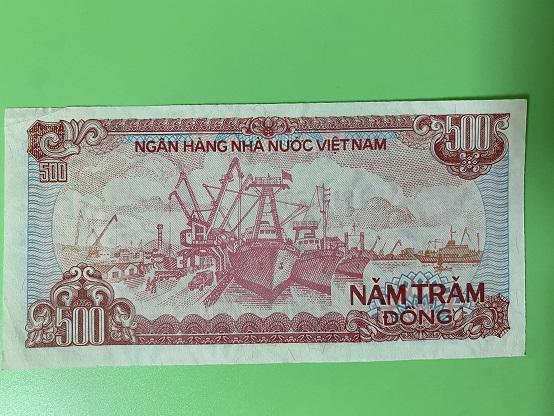500vnd: (4, 97, 527, 372)
